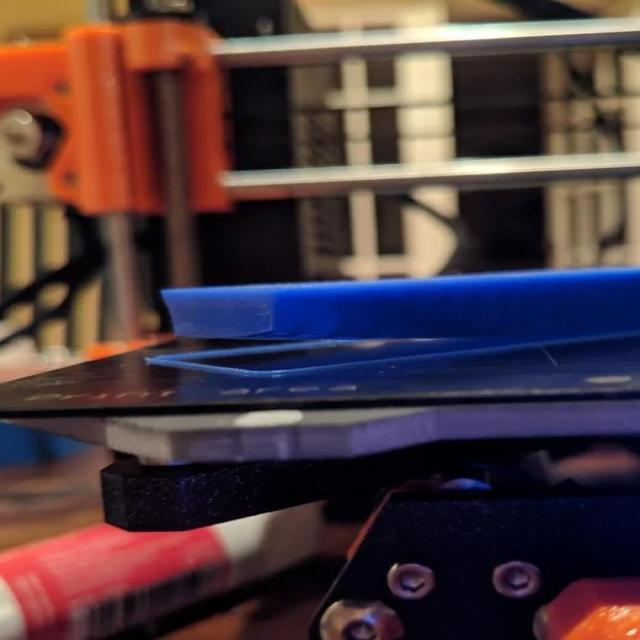Warping: (189, 321, 456, 356)
